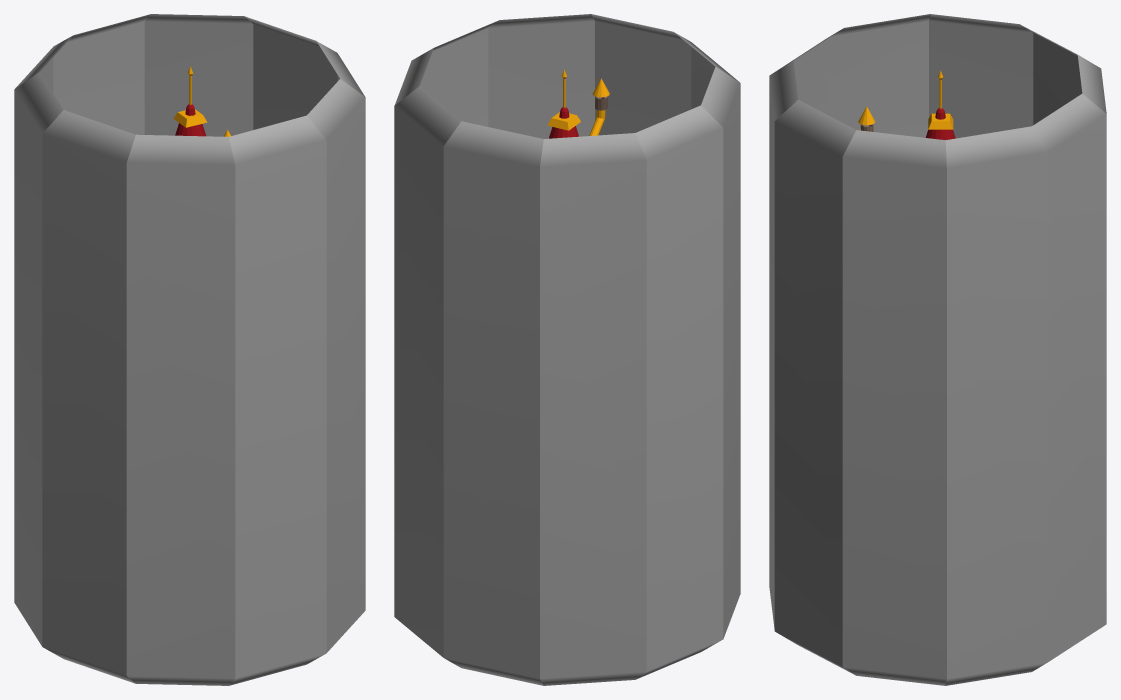
Rendered from tower level (1).fbx.
3 views of the same model, side by side, from view 1: azimuth 30°, elevation 25°; view 2: azimuth 150°, elevation 25°; view 3: azimuth 270°, elevation 25° (orthographic).
Visible parts, largest first — view 1: pCylinder1, Potion_Shop_Tower_usdz:Mesh; view 2: pCylinder1, Potion_Shop_Tower_usdz:Mesh; view 3: pCylinder1, Potion_Shop_Tower_usdz:Mesh.
Boxes of the visible parts, box(x1,y1,x2,y2) form: pCylinder1: box(14, 14, 365, 685); Potion_Shop_Tower_usdz:Mesh: box(173, 66, 230, 136); pCylinder1: box(394, 14, 740, 685); Potion_Shop_Tower_usdz:Mesh: box(547, 69, 609, 138); pCylinder1: box(769, 14, 1106, 685); Potion_Shop_Tower_usdz:Mesh: box(858, 70, 955, 140).
Size of the model in its own units: 1730 by 3027 by 1673.
